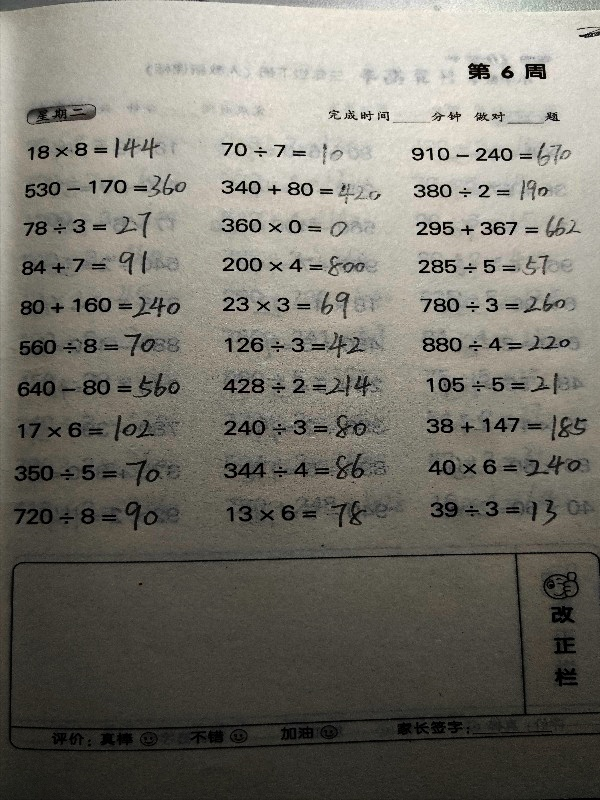equation: (22, 169, 190, 206), (13, 370, 186, 405), (14, 287, 192, 321), (222, 495, 374, 532), (427, 452, 588, 486), (421, 410, 592, 442), (408, 140, 576, 171), (219, 286, 365, 321), (222, 373, 380, 405), (12, 502, 168, 534), (413, 213, 585, 242), (218, 412, 377, 443), (221, 328, 372, 360), (218, 177, 384, 206), (429, 493, 566, 528), (419, 327, 584, 356), (424, 366, 569, 399), (220, 454, 374, 485), (15, 329, 159, 362), (13, 459, 170, 489), (217, 136, 355, 170), (219, 252, 378, 281), (16, 416, 162, 447), (416, 290, 577, 317), (12, 209, 155, 239), (410, 176, 553, 204), (414, 250, 552, 279), (20, 250, 159, 278), (24, 135, 163, 162), (218, 215, 350, 238)
